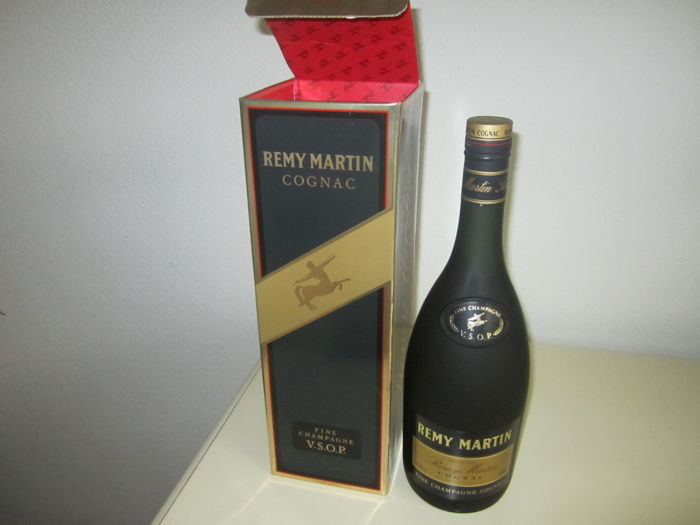Remy martin: (395, 112, 537, 517)
